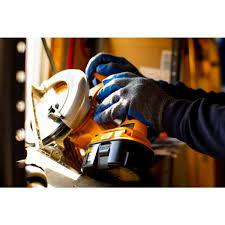gloves: (93, 72, 172, 131), (85, 51, 143, 78)
